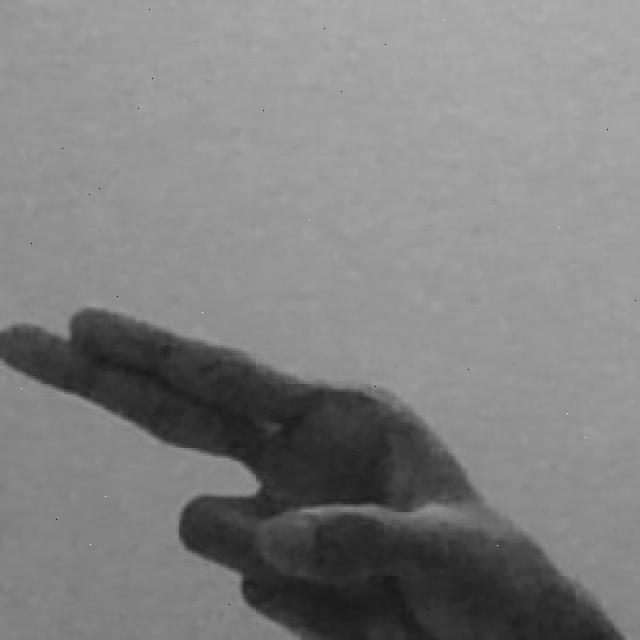H: (0, 299, 638, 640)
